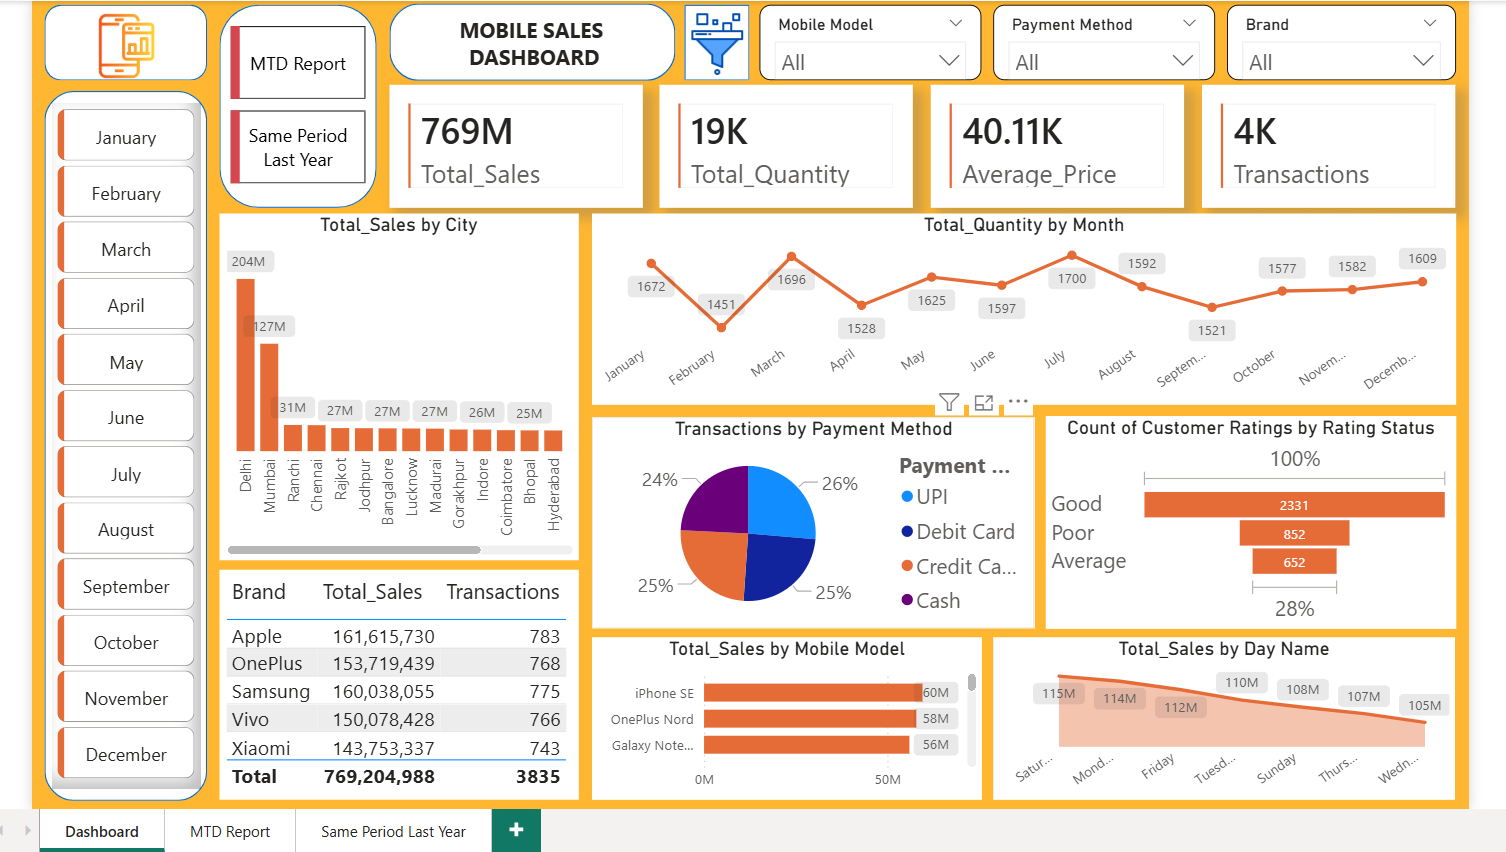

The page's visual inventory and layout, read from the dashboard file:
{"tool":"powerbi","page":{"name":"Dashboard","canvas":[1280,720],"ordinal":0},"visuals":[{"type":"shape","box":[10.9,3.6,144.8,67.6],"z":0},{"type":"image","box":[37.4,8.4,92.9,62.7],"z":1000},{"type":"shape","box":[10.9,79.6,144.8,632.2],"z":2000},{"type":"advancedSlicerVisual","fields":{"Values":["Custom_Calender.Date.Variation.Date Hierarchy.Month"]},"box":[18.1,91.7,132.7,610.5],"z":3000},{"type":"slicer","fields":{"Values":["Sales_Data.Mobile Model"]},"box":[647.9,3.6,197.9,67.6],"z":4000},{"type":"slicer","fields":{"Values":["Sales_Data.Payment Method"]},"box":[856.6,3.6,197.9,67.6],"z":5000},{"type":"slicer","fields":{"Values":["Sales_Data.Brand"]},"box":[1064.1,3.6,203.9,67.6],"z":6000},{"type":"cardVisual","fields":{"Data":["Sales_Data.Total_Sales"]},"box":[318.5,74.8,225.6,109.8],"z":7000},{"type":"cardVisual","fields":{"Data":["Sales_Data.Total_Quantity"]},"box":[558.6,74.8,225.6,109.8],"z":8000},{"type":"cardVisual","fields":{"Data":["Sales_Data.Average_Price"]},"box":[799.9,74.8,225.6,109.8],"z":9000},{"type":"cardVisual","fields":{"Data":["Sales_Data.Transactions"]},"box":[1042.4,74.8,225.6,109.8],"z":10000},{"type":"shape","box":[581.5,3.6,57.9,67.6],"z":11000},{"type":"image","box":[581.5,9.7,57.9,56.7],"z":12000},{"type":"shape","box":[318.5,2.4,254.6,68.8],"z":13000},{"type":"textbox","box":[357.1,7.2,179.8,60.3],"z":14000},{"type":"lineChart","fields":{"Category":["Custom_Calender.Date.Variation.Date Hierarchy.Month"],"Y":["Sales_Data.Total_Quantity"]},"box":[498.3,189.4,769.7,170.1],"z":15000},{"type":"funnel","fields":{"Y":["CountNonNull(Sales_Data.Customer Ratings)"],"Category":["Sales_Data.Rating Status"]},"box":[902.4,369.2,365.6,189.4],"z":16000},{"type":"pieChart","fields":{"Y":["Sales_Data.Transactions"],"Category":["Sales_Data.Payment Method"]},"box":[498.3,370.4,394.5,188.2],"z":17000},{"type":"clusteredBarChart","fields":{"Y":["Sales_Data.Total_Sales"],"Category":["Sales_Data.Mobile Model"]},"box":[498.3,567,347.5,144.8],"z":18000},{"type":"areaChart","fields":{"Y":["Sales_Data.Total_Sales"],"Category":["Custom_Calender.Day Name"]},"box":[856.6,567,411.4,144.8],"z":19000},{"type":"tableEx","fields":{"Values":["Sales_Data.Brand","Sales_Data.Total_Sales","Sales_Data.Transactions"]},"box":[166.5,506.7,319.7,205.1],"z":20000},{"type":"shape","box":[166.5,3.6,139.9,181],"z":21000},{"type":"clusteredColumnChart","fields":{"Category":["Sales_Data.City"],"Y":["Sales_Data.Total_Sales"]},"box":[166.5,189.4,319.7,308.8],"z":22000},{"type":"pageNavigator","box":[175.9,24.5,121.3,140.3],"z":23000}]}

Visuals, with their boxes in screenshot pixels (x1, y1, x2, y2):
shape: locate(44, 4, 206, 80)
image: locate(73, 9, 177, 80)
shape: locate(44, 89, 206, 797)
advancedSlicerVisual - Custom_Calender.Date.Variation.Date Hierarchy.Month: locate(52, 103, 200, 786)
slicer - Sales_Data.Mobile Model: locate(756, 4, 978, 80)
slicer - Sales_Data.Payment Method: locate(990, 4, 1212, 80)
slicer - Sales_Data.Brand: locate(1222, 4, 1450, 80)
cardVisual - Sales_Data.Total_Sales: locate(388, 84, 640, 207)
cardVisual - Sales_Data.Total_Quantity: locate(657, 84, 909, 207)
cardVisual - Sales_Data.Average_Price: locate(927, 84, 1179, 207)
cardVisual - Sales_Data.Transactions: locate(1198, 84, 1450, 207)
shape: locate(682, 4, 747, 80)
image: locate(682, 11, 747, 74)
shape: locate(388, 3, 673, 80)
textbox: locate(431, 8, 632, 76)
lineChart - Custom_Calender.Date.Variation.Date Hierarchy.Month x Sales_Data.Total_Quantity: locate(589, 212, 1450, 402)
funnel - CountNonNull(Sales_Data.Customer Ratings) x Sales_Data.Rating Status: locate(1041, 413, 1450, 625)
pieChart - Sales_Data.Transactions x Sales_Data.Payment Method: locate(589, 415, 1031, 625)
clusteredBarChart - Sales_Data.Total_Sales x Sales_Data.Mobile Model: locate(589, 635, 978, 797)
areaChart - Sales_Data.Total_Sales x Custom_Calender.Day Name: locate(990, 635, 1450, 797)
tableEx - Sales_Data.Brand x Sales_Data.Total_Sales: locate(218, 567, 576, 797)
shape: locate(218, 4, 374, 207)
clusteredColumnChart - Sales_Data.City x Sales_Data.Total_Sales: locate(218, 212, 576, 558)
pageNavigator: locate(228, 27, 364, 184)
